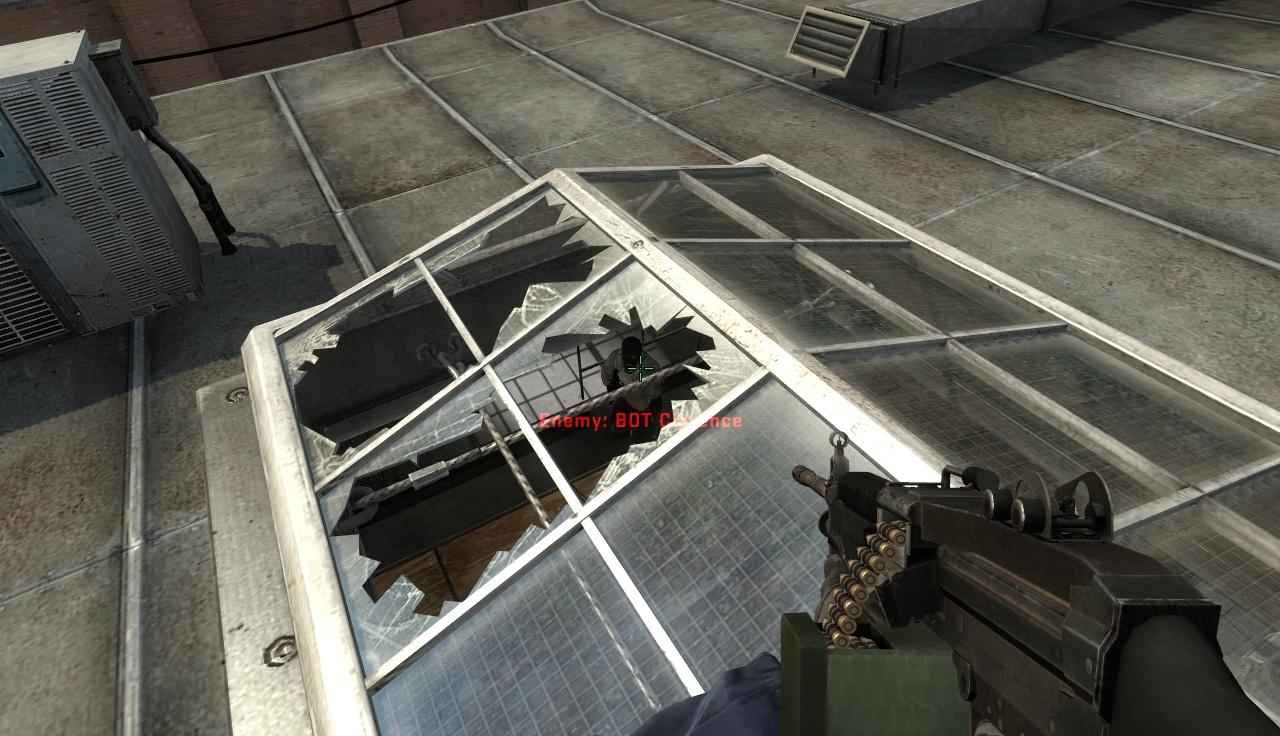rifle: (794, 432, 1280, 736)
tt: (602, 336, 665, 410)
tthead: (621, 336, 642, 367)
